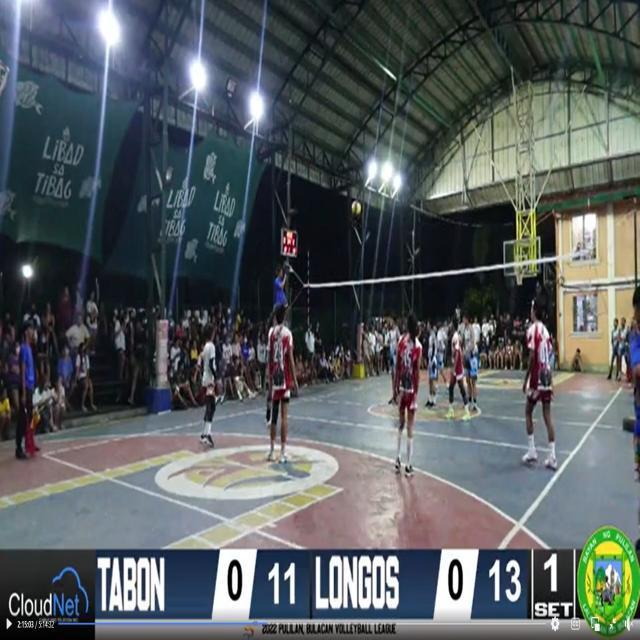volleyball: (351, 200, 362, 217)
